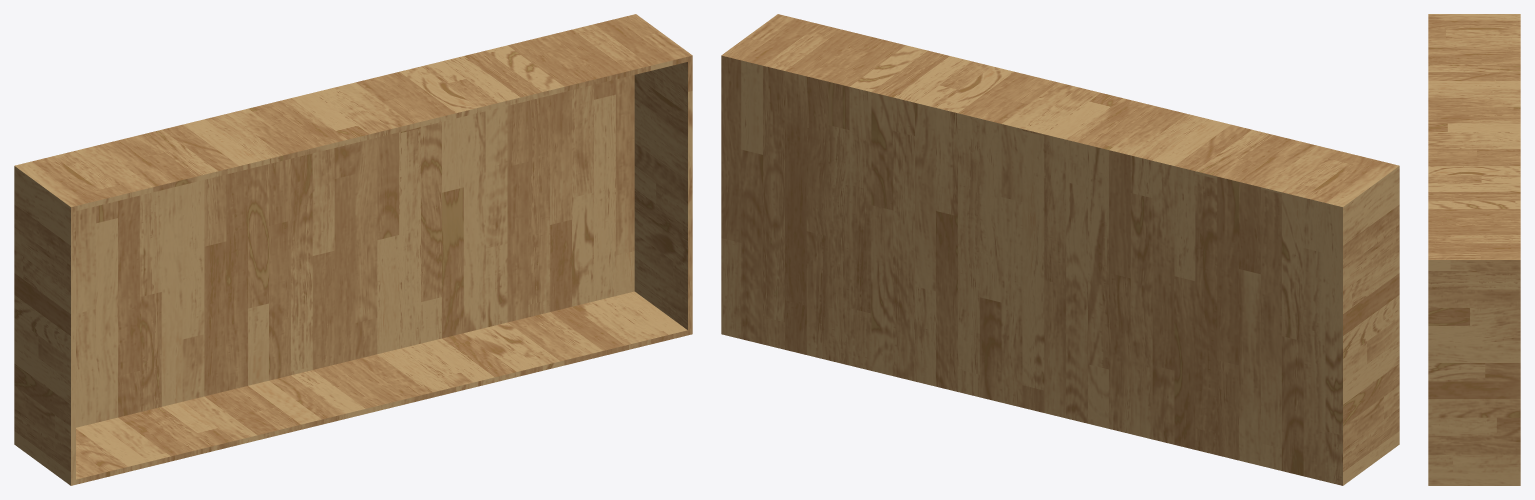
The model's file is MeshSideTableDrawer_216_2_1_GeomSubset_0.obj.
3 views of the same model, side by side, from view 1: azimuth 30°, elevation 25°; view 2: azimuth 150°, elevation 25°; view 3: azimuth 270°, elevation 25° (orthographic). The views are drawn at different scales.
Visible parts, largest first — view 1: MeshSideTableDrawer_216_2_1_GeomSubset_0; view 2: MeshSideTableDrawer_216_2_1_GeomSubset_0; view 3: MeshSideTableDrawer_216_2_1_GeomSubset_0.
Boxes of the visible parts, x1=… form: MeshSideTableDrawer_216_2_1_GeomSubset_0: x1=14, y1=14, x2=692, y2=485; MeshSideTableDrawer_216_2_1_GeomSubset_0: x1=721, y1=14, x2=1399, y2=485; MeshSideTableDrawer_216_2_1_GeomSubset_0: x1=1428, y1=14, x2=1520, y2=485.
Bounding box in the file's own units: 1.01 × 0.4364 × 0.1592.
